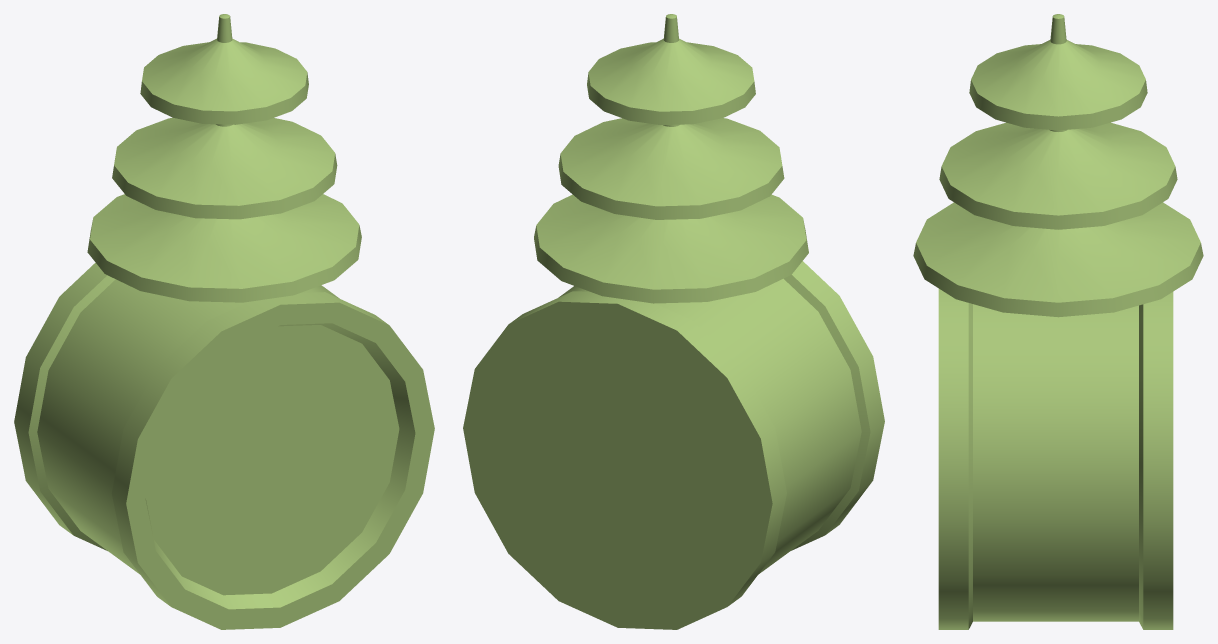
The model's file is drum.glb.
3 views of the same model, side by side, from view 1: azimuth 30°, elevation 25°; view 2: azimuth 150°, elevation 25°; view 3: azimuth 270°, elevation 25° (orthographic). The views are drawn at different scales.
Visible parts, largest first — view 1: drum; view 2: drum; view 3: drum.
Boxes of the visible parts, x1,y1,x2,y2 form: drum: [14, 14, 434, 629]; drum: [463, 14, 884, 629]; drum: [913, 14, 1203, 629].
Bounding box in the file's own units: 0.8678 × 1.53 × 0.6738.
